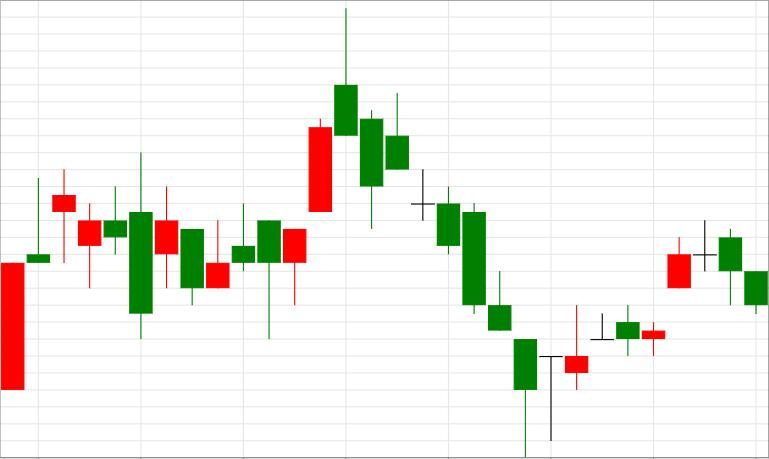hammer_rise: (335, 9, 536, 457)
